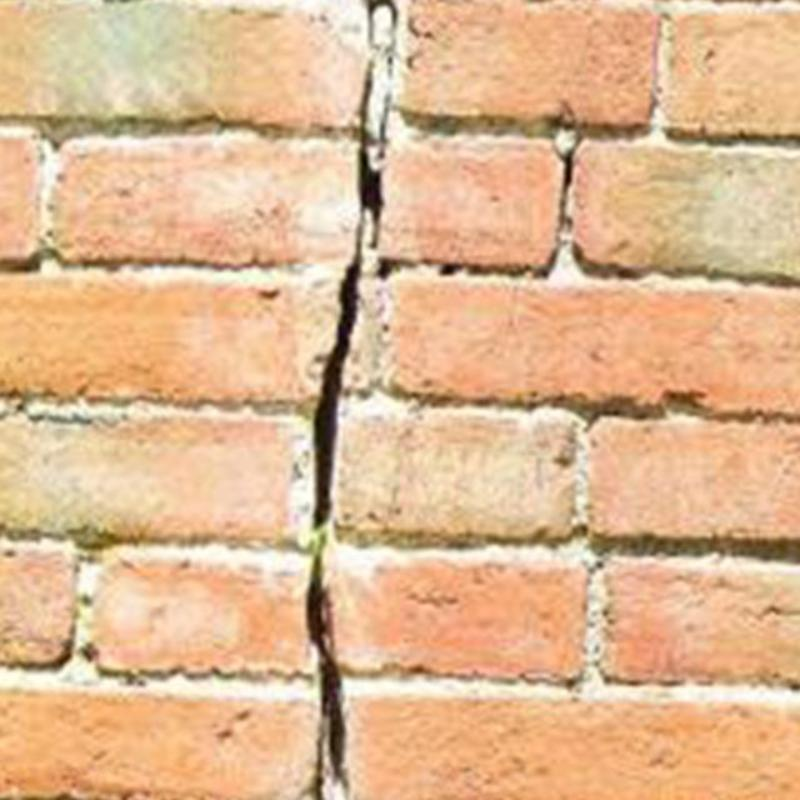pothole: (305, 0, 397, 799), (554, 136, 582, 210)
